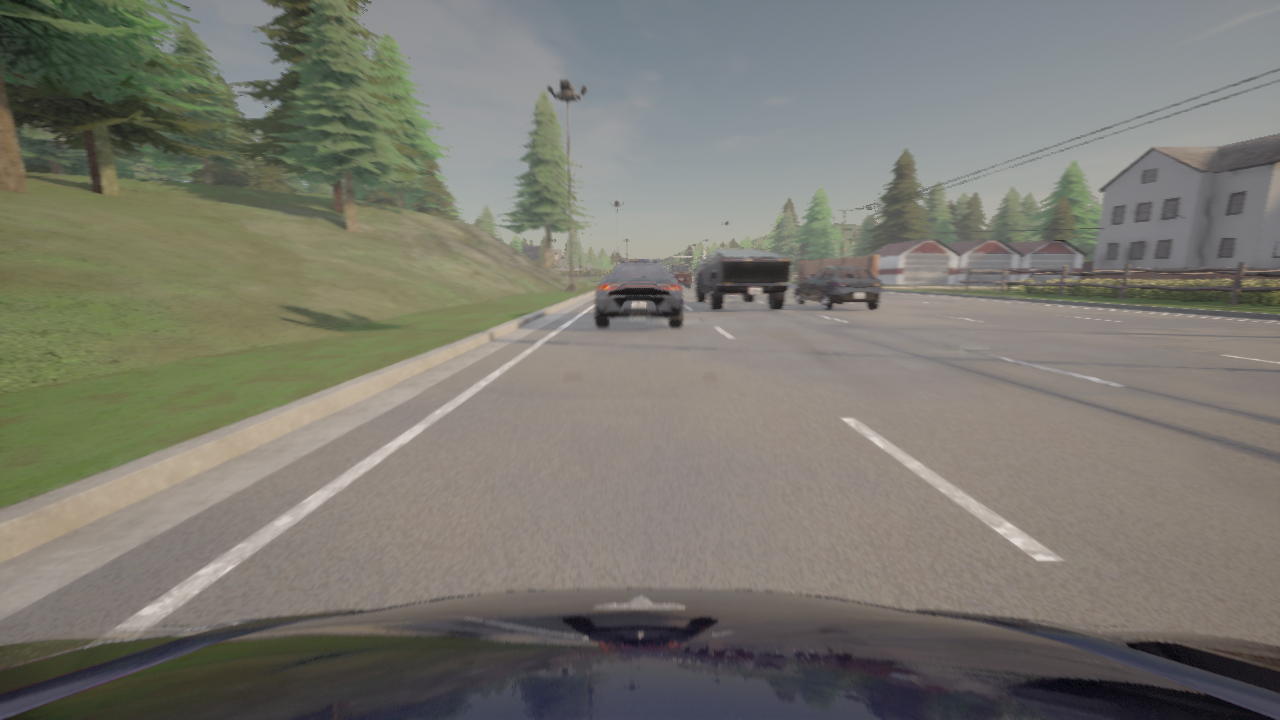cyclist: (0, 588, 1279, 719), (595, 260, 683, 327), (695, 249, 791, 310), (795, 266, 881, 310), (668, 265, 691, 287), (694, 260, 704, 284), (662, 265, 667, 272), (576, 276, 579, 277)
